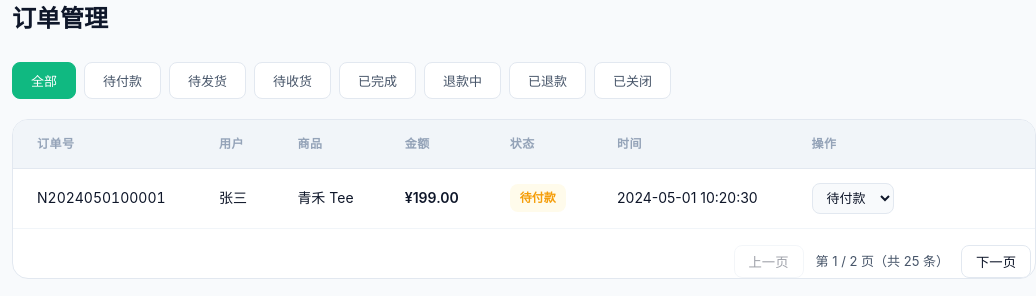
Test: admin/Orders 订单管理 › 分页：展示分页信息并可翻页
Expected: the text "第 1 / 2 页（共 25 条）" is shown, [816,251,949,272]
Expected: the button "上一页" is disabled, [734,245,804,278]
Click the button "下一页": (996, 261) [961,245,1031,278]
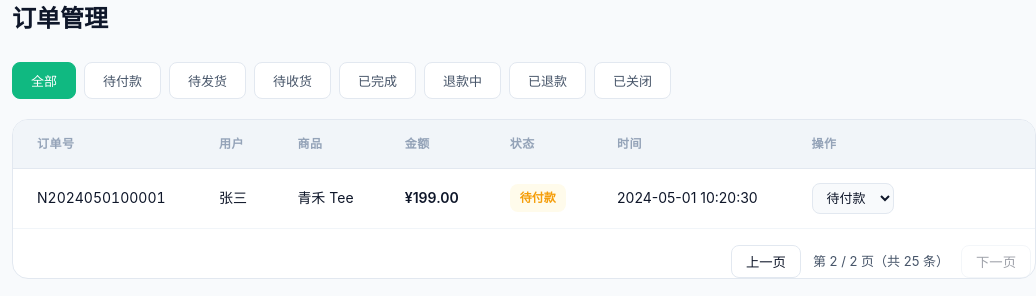
Expected: the text "第 2 / 2 页（共 25 条）" is shown, [813,251,949,272]
Expected: the button "下一页" is disabled, [961,245,1031,278]
